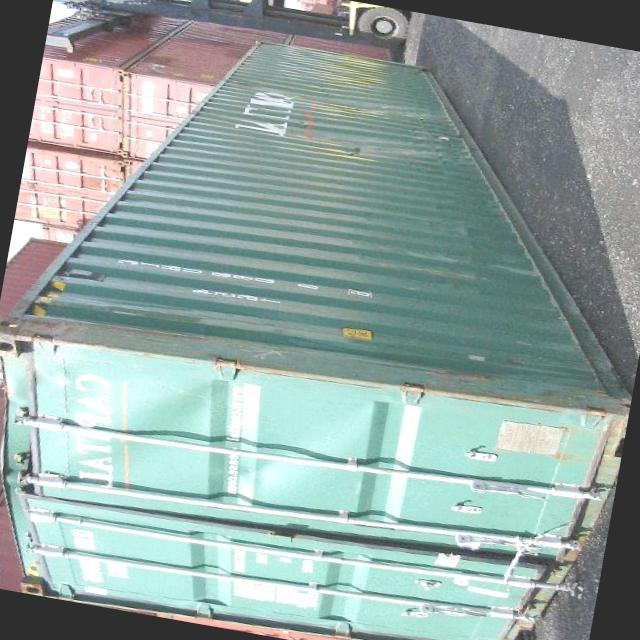dent: (329, 133, 386, 175)
rust: (1, 289, 601, 463)
